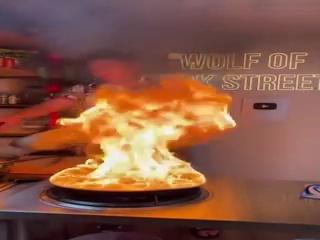Fire: (42, 44, 220, 192)
